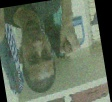hand: (58, 23, 81, 56)
